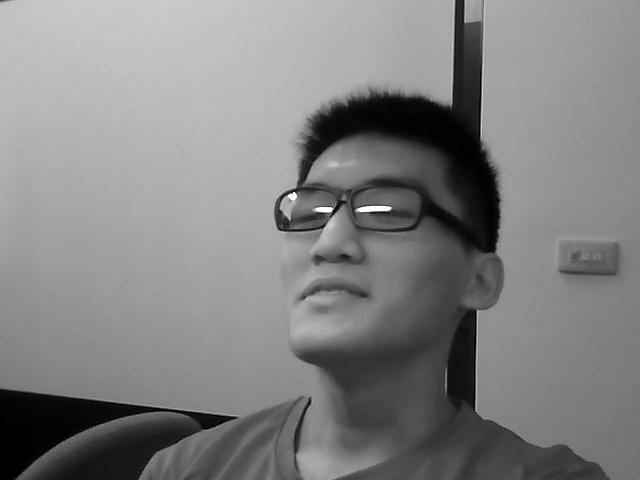eye_closed: (359, 195, 424, 235), (286, 196, 331, 240)
face: (279, 133, 468, 359)
